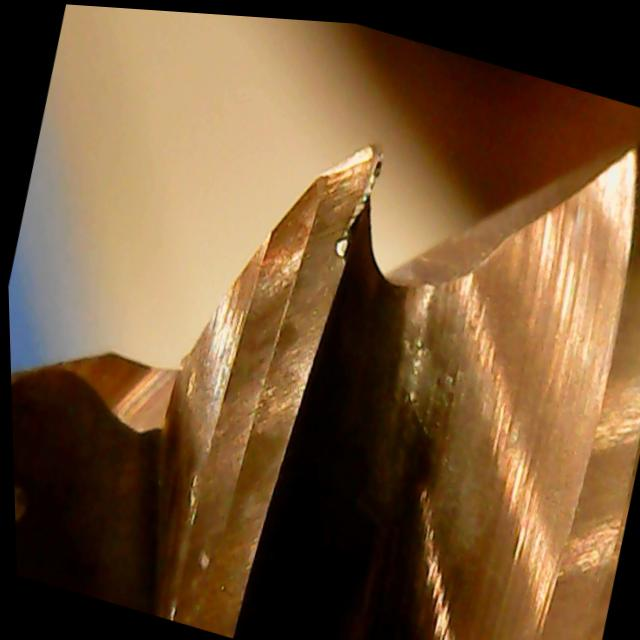Tool-wear-class-1: (226, 112, 402, 421)
